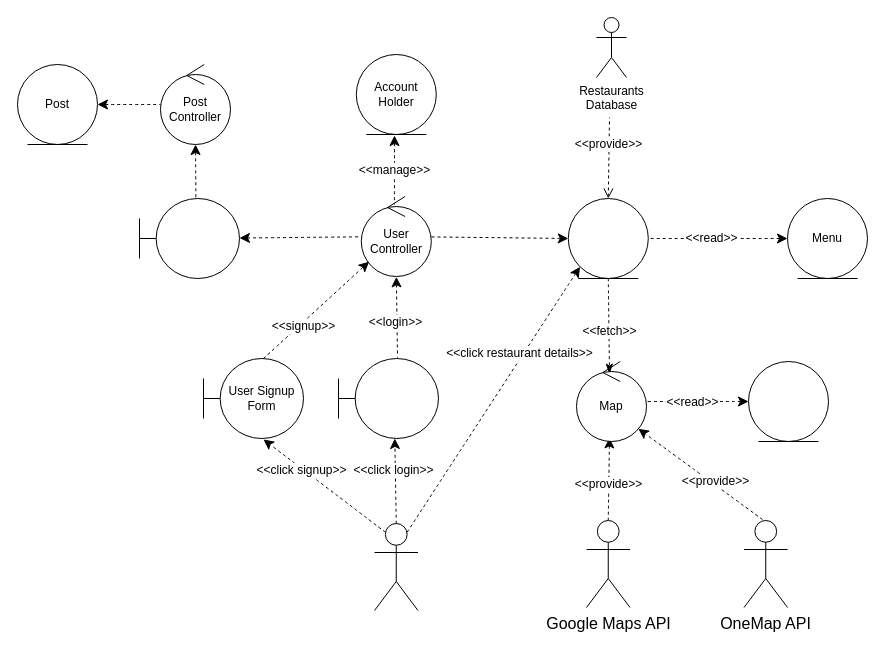
This 885x654 diagram has some shape labels left out. The centre of each missing label's shape, as x and y in pixels:
Community Page: pixel 189 238
Map Location: pixel 788 401
Public User: pixel 396 566
Restaurant Details: pixel 607 238
User Login Form: pixel 388 398
